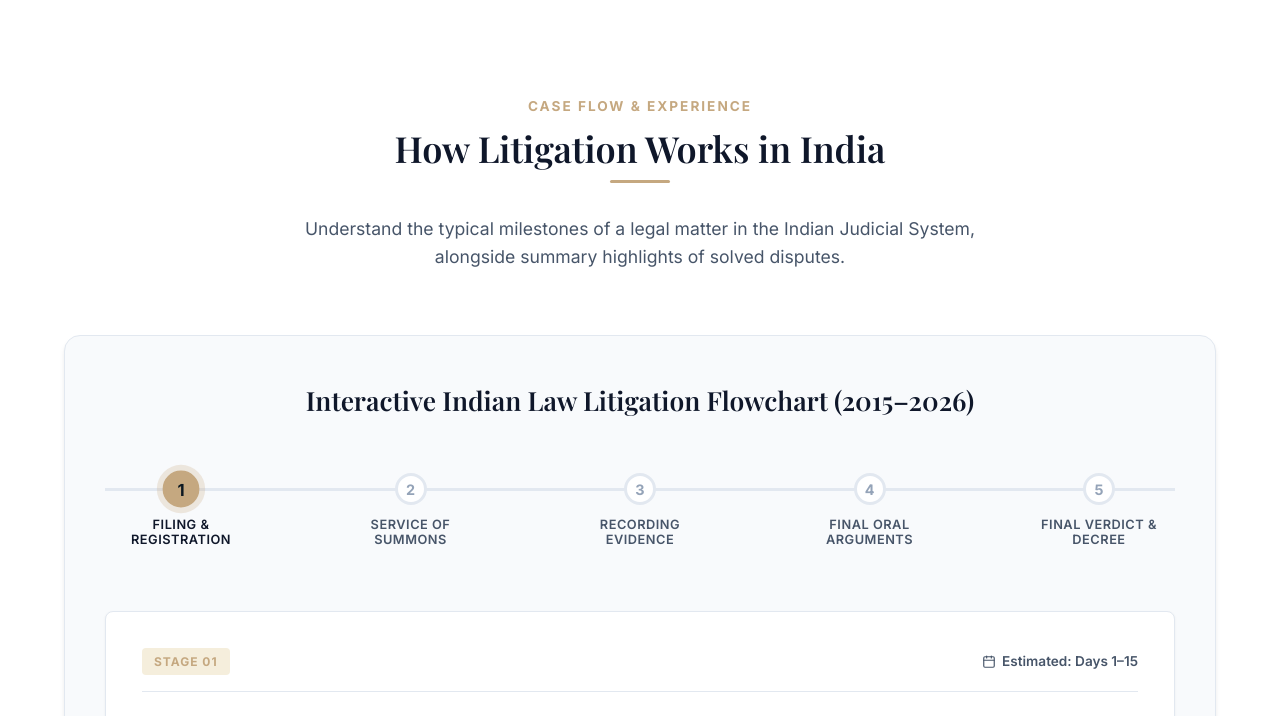
it: CaseStudies › next button is disabled on last step
Click the button with aria-label "go to step 5": (1099,510) [1039,473,1159,547]
(page scrolled)
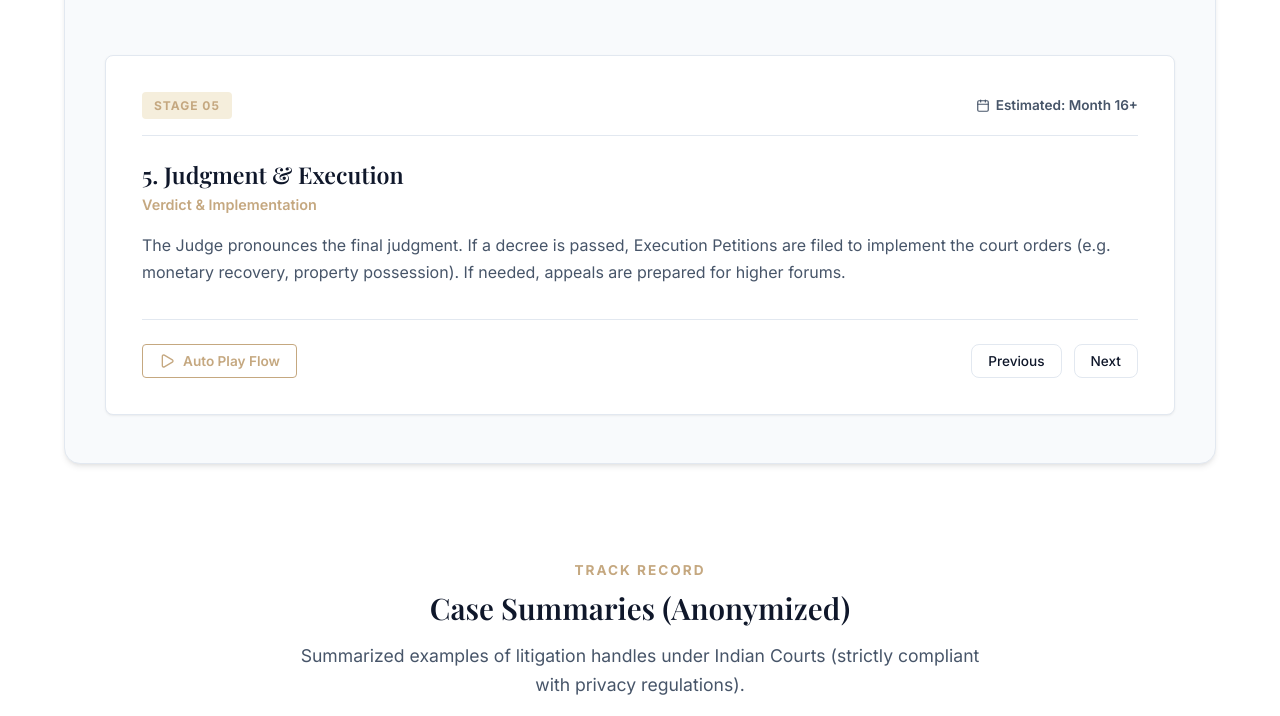
Expected: the button "Next" is disabled, [1074,344,1138,378]
